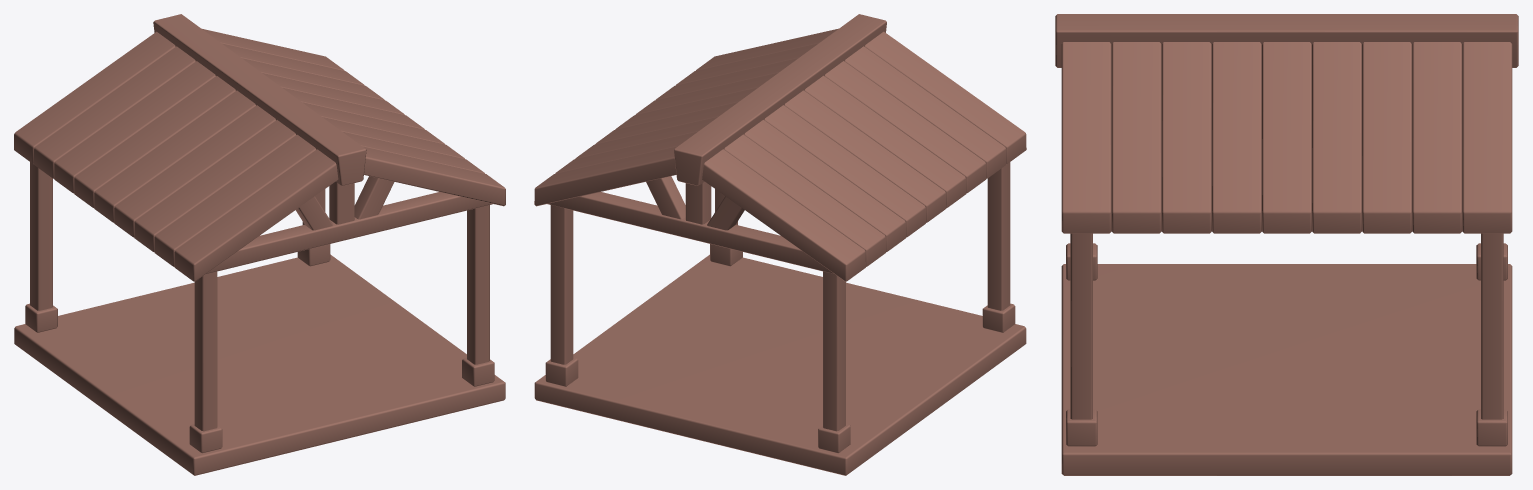
Rendered from Town_20_Summer_Gazebo_1.glb.
3 views of the same model, side by side, from view 1: azimuth 30°, elevation 25°; view 2: azimuth 150°, elevation 25°; view 3: azimuth 270°, elevation 25° (orthographic). The views are drawn at different scales.
Visible parts, largest first — view 1: Town_20_Summer_Gazebo_1; view 2: Town_20_Summer_Gazebo_1; view 3: Town_20_Summer_Gazebo_1.
Boxes of the visible parts, <box> form: Town_20_Summer_Gazebo_1: <box>14,14,505,475</box>; Town_20_Summer_Gazebo_1: <box>534,14,1026,475</box>; Town_20_Summer_Gazebo_1: <box>1055,14,1518,475</box>.
Size of the model in its own units: 3.73 by 3.28 by 3.83.
1 material, 1 textured.
